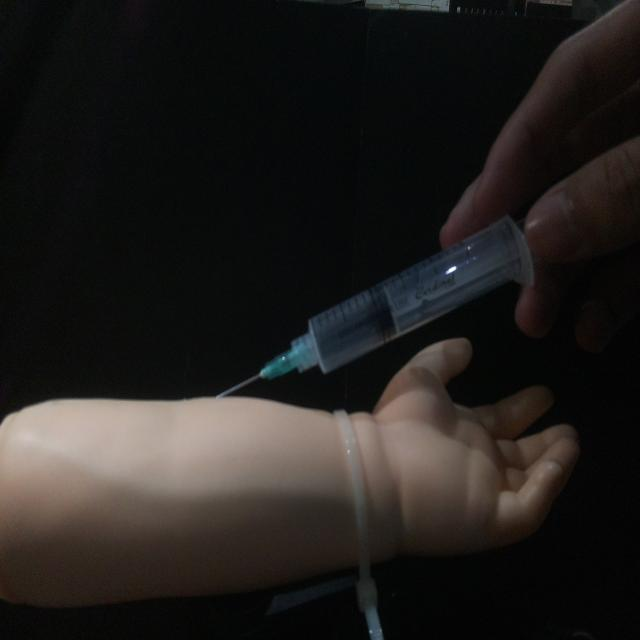19deg: (211, 210, 537, 402)
